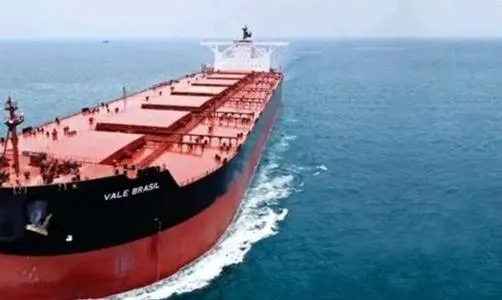Cargoship: (2, 16, 290, 297)
